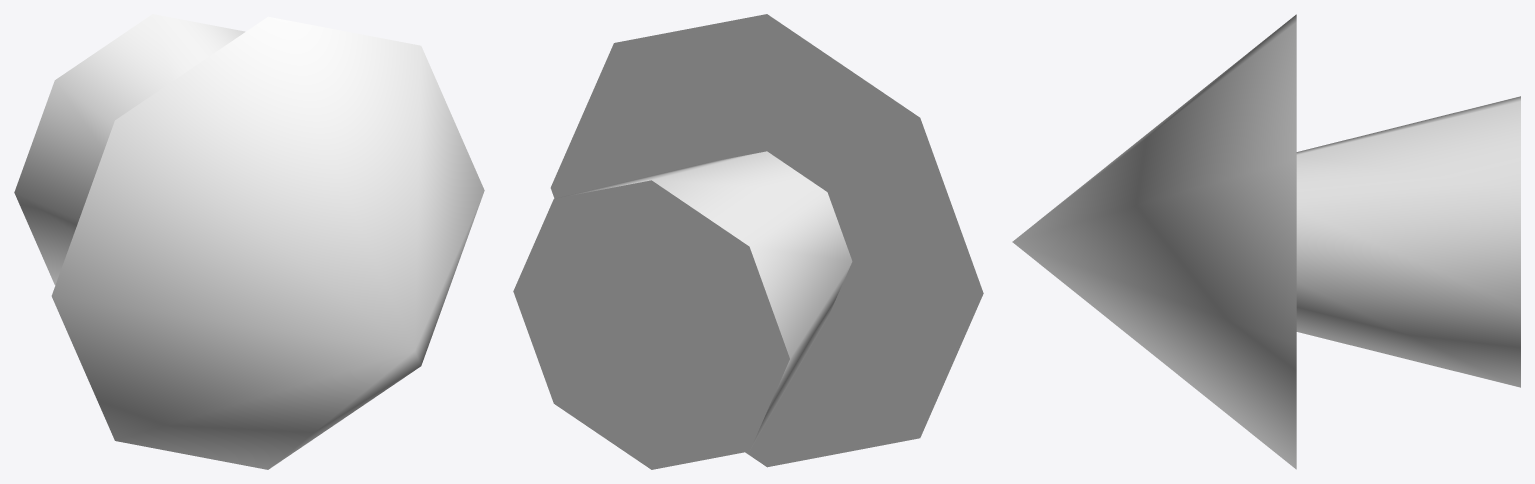
The model's file is Capsule_Head_Prop_Arrow_02.fbx.
3 renders of one model, left to right at view 1: azimuth 30°, elevation 25°; view 2: azimuth 150°, elevation 25°; view 3: azimuth 270°, elevation 25°, orthographic. The views are drawn at different scales.
Parts seen in each view (by area): view 1: Capsule_Head_Prop_Arrow_02; view 2: Capsule_Head_Prop_Arrow_02; view 3: Capsule_Head_Prop_Arrow_02.
Boxes of the visible parts, x1,y1,x2,y2 form: Capsule_Head_Prop_Arrow_02: (14, 14, 484, 469); Capsule_Head_Prop_Arrow_02: (513, 14, 983, 469); Capsule_Head_Prop_Arrow_02: (1012, 14, 1520, 469).
Size of the model in its own units: 49.68 by 49.68 by 52.08.
